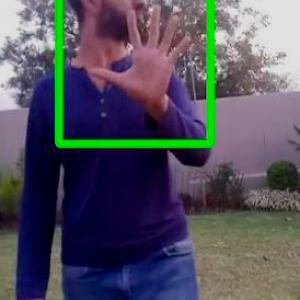follow_hand: (86, 1, 196, 111)
